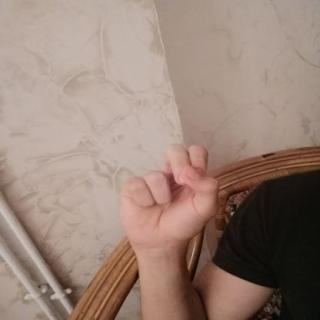QAAF: (106, 140, 228, 252)
